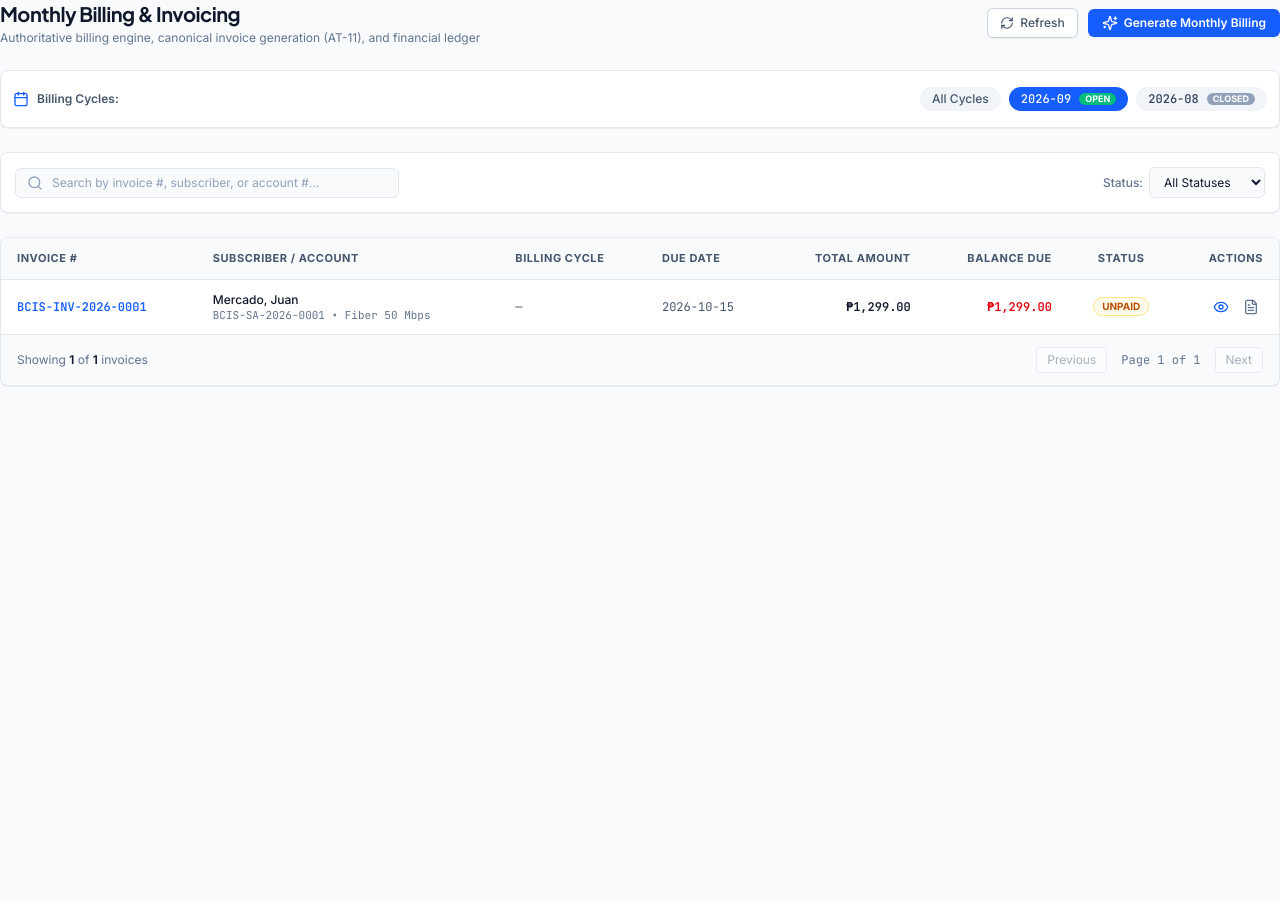
Test: BillingPage Component (Phase 3 & AT-11) › opens subscriber financial ledger modal with running balances
This screenshot has width=1280, height=900.
Expected: the button "BCIS-INV-2026-0001" is shown, 17,299 -> 147,315
Step 1. Click the button named "view subscriber ledger" → click(1251, 307), box 1239,295 -> 1263,319
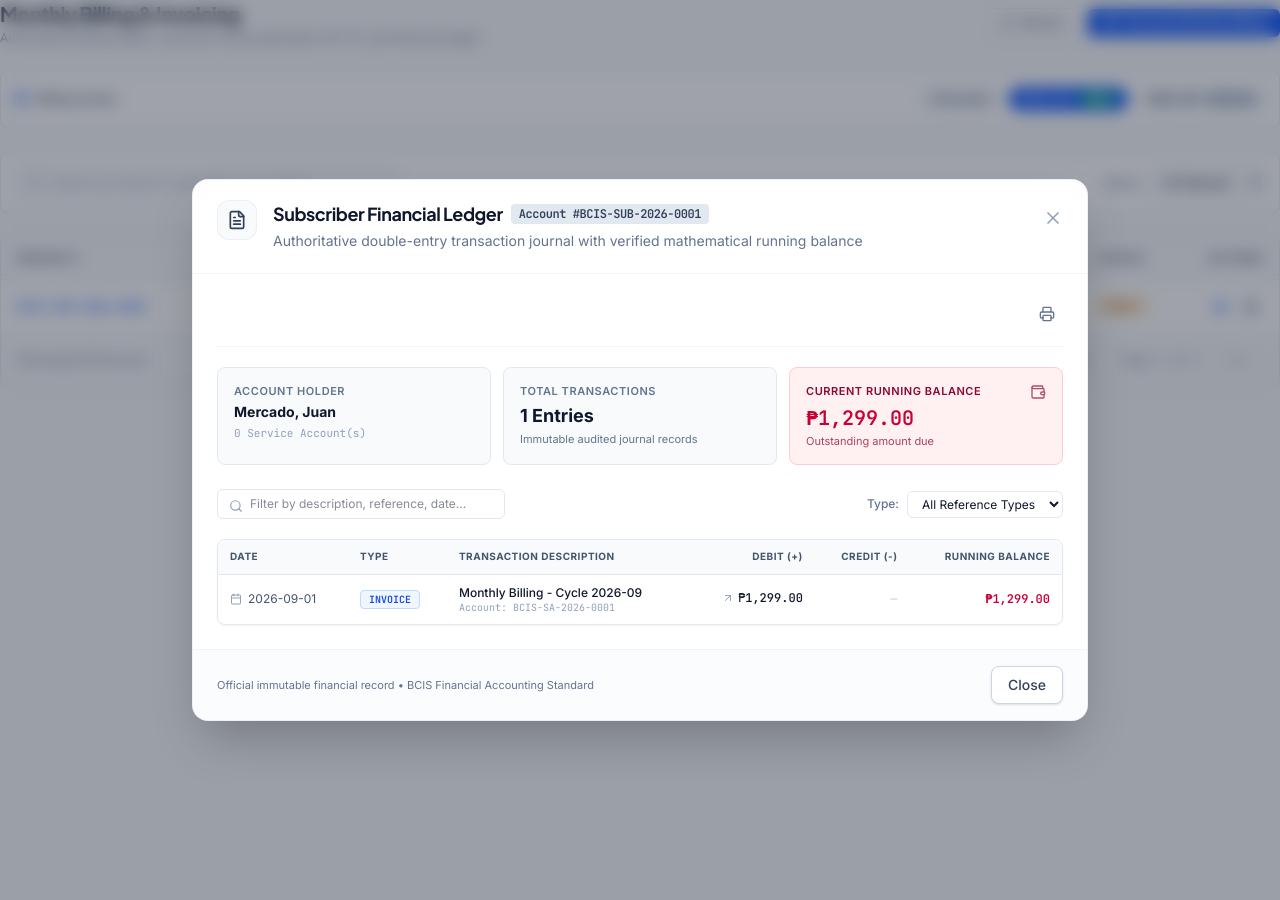
Expected: the text "Subscriber Financial Ledger" is shown, 273,200 -> 503,228
Expected: the text "Account #BCIS-SUB-2026-0001" is shown, 511,204 -> 709,224
Expected: the text "Monthly Billing - Cycle 2026-09" is shown, 459,585 -> 642,600
